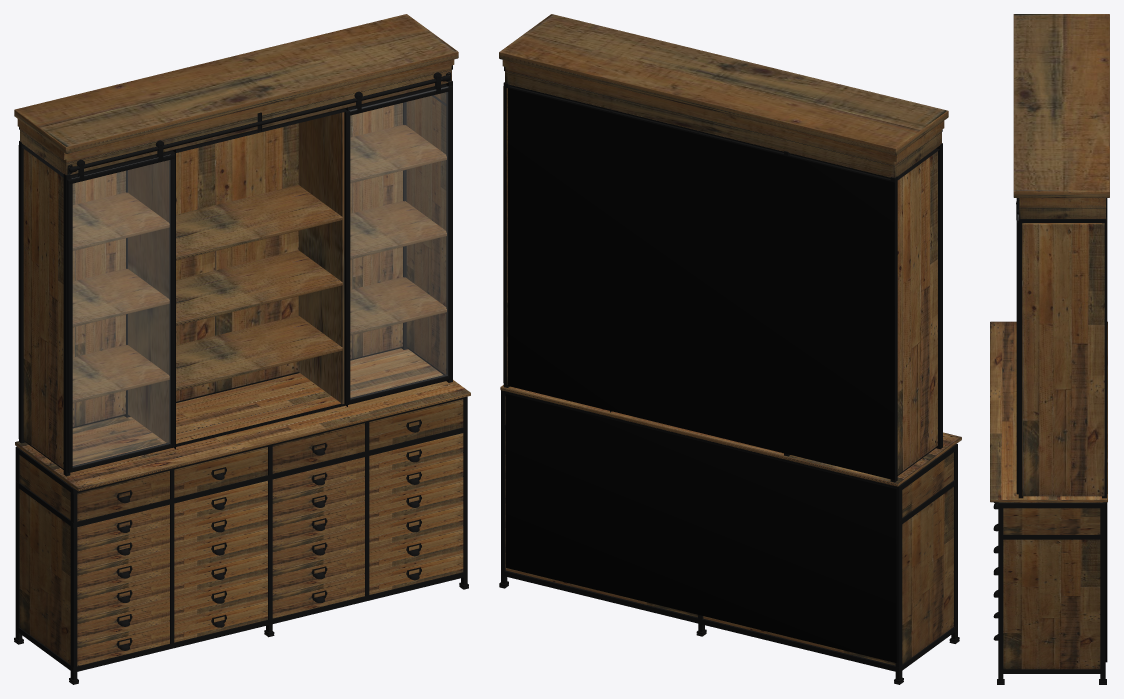
Rendered from example24.glb.
3 renders of one model, left to right at view 1: azimuth 30°, elevation 25°; view 2: azimuth 150°, elevation 25°; view 3: azimuth 270°, elevation 25°, orthographic. The views are drawn at different scales.
Parts seen in each view (by area): view 1: Merged Objects 2, Merged Objects 14, Merged Objects 4, Merged Objects 5, Merged Objects 10, Merged Objects 7, Merged Objects 13, Merged Objects 6, Merged Objects 1, Merged Objects 8, Merged Objects 9; view 2: Merged Objects 3, Merged Objects 7, Merged Objects 10, Merged Objects 13, Merged Objects 8, Merged Objects 4, Merged Objects 9, Merged Objects 14; view 3: Merged Objects 13, Merged Objects 7, Merged Objects 8, Merged Objects 10, Merged Objects 4, Merged Objects 9, Merged Objects 3.
Part boxes in pixels (left/top/right/bottom): Merged Objects 2: left=73, top=87, right=447, bottom=466; Merged Objects 14: left=77, top=433, right=463, bottom=666; Merged Objects 4: left=15, top=103, right=470, bottom=491; Merged Objects 5: left=72, top=124, right=446, bottom=403; Merged Objects 10: left=14, top=65, right=468, bottom=684; Merged Objects 7: left=14, top=14, right=458, bottom=174; Merged Objects 13: left=23, top=92, right=446, bottom=468; Merged Objects 6: left=128, top=112, right=344, bottom=442; Merged Objects 1: left=77, top=399, right=463, bottom=521; Merged Objects 8: left=19, top=489, right=70, bottom=664; Merged Objects 9: left=19, top=455, right=70, bottom=519; Merged Objects 3: left=506, top=87, right=897, bottom=662; Merged Objects 7: left=499, top=14, right=948, bottom=177; Merged Objects 10: left=499, top=66, right=959, bottom=684; Merged Objects 13: left=503, top=86, right=937, bottom=474; Merged Objects 8: left=902, top=487, right=953, bottom=664; Merged Objects 4: left=500, top=88, right=961, bottom=486; Merged Objects 9: left=902, top=452, right=953, bottom=517; Merged Objects 14: left=505, top=430, right=895, bottom=665; Merged Objects 13: left=1022, top=223, right=1104, bottom=496; Merged Objects 7: left=1013, top=14, right=1109, bottom=218; Merged Objects 8: left=1003, top=539, right=1100, bottom=669; Merged Objects 10: left=993, top=198, right=1106, bottom=684; Merged Objects 4: left=990, top=321, right=1107, bottom=502; Merged Objects 9: left=1003, top=508, right=1100, bottom=534; Merged Objects 3: left=1105, top=198, right=1107, bottom=662.
Size of the model in its own units: 1.74 by 2.23 by 0.4913.
10 materials, 7 textured.
